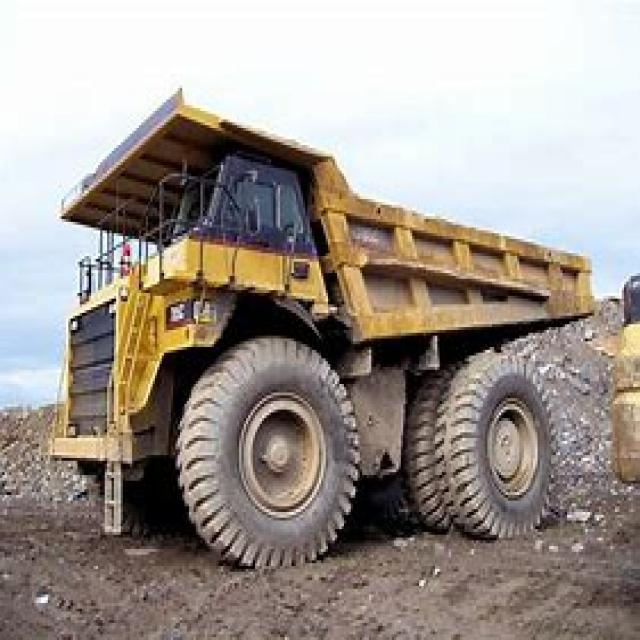dump_truck: (48, 82, 578, 554)
